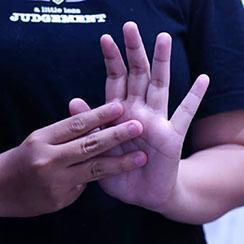M: (0, 17, 231, 244)
